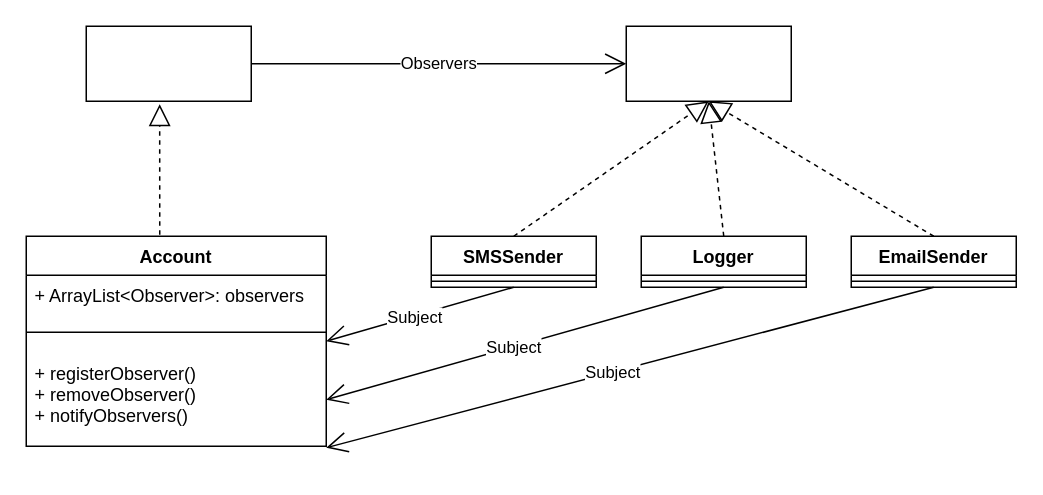
Image size: 1043x495. Some labels were removed from this diagram. Here are the shapes that lost their labels. From the top down, the centre of each, then its label:
(168,63): «interface» Subject
(708,63): «interface» Observers
